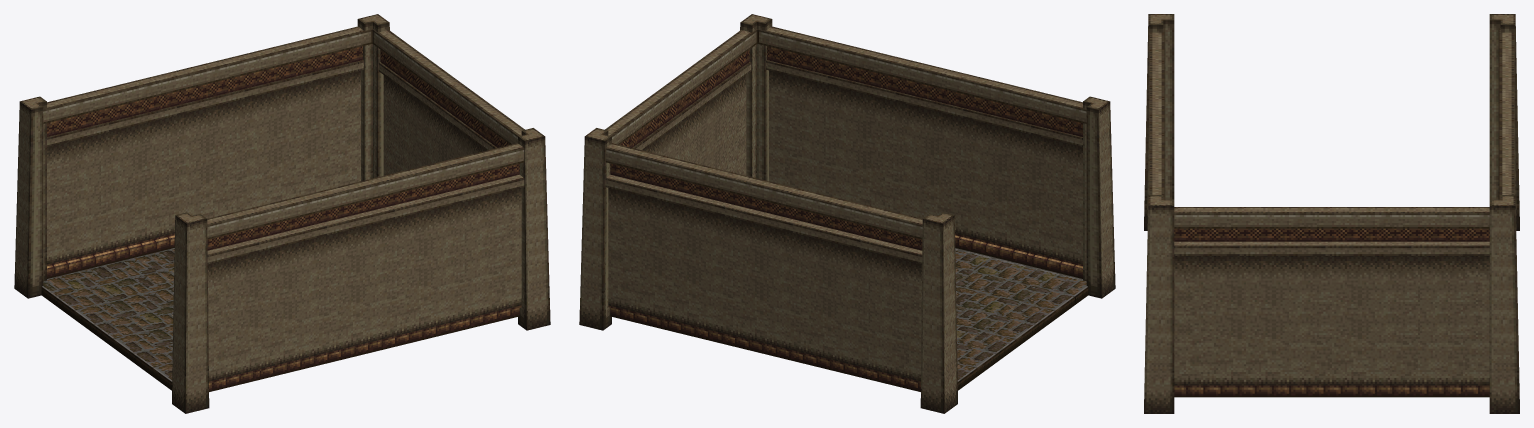
Rendered from EnvBdgMD_Wilderness_C_Indoor_House_AA.FBX.
3 renders of one model, left to right at view 1: azimuth 30°, elevation 25°; view 2: azimuth 150°, elevation 25°; view 3: azimuth 270°, elevation 25°, orthographic. The views are drawn at different scales.
Visible parts, largest first — view 1: EnvBdgMD_Wilderness_C_Indoor_House_AA; view 2: EnvBdgMD_Wilderness_C_Indoor_House_AA; view 3: EnvBdgMD_Wilderness_C_Indoor_House_AA.
Boxes of the visible parts, x1,y1,x2,y2 form: EnvBdgMD_Wilderness_C_Indoor_House_AA: [14, 14, 550, 413]; EnvBdgMD_Wilderness_C_Indoor_House_AA: [579, 14, 1115, 413]; EnvBdgMD_Wilderness_C_Indoor_House_AA: [1144, 14, 1519, 413].
Bounding box in the file's own units: 1078 × 530 × 875.
Materials: 1 (1 with a texture image).
